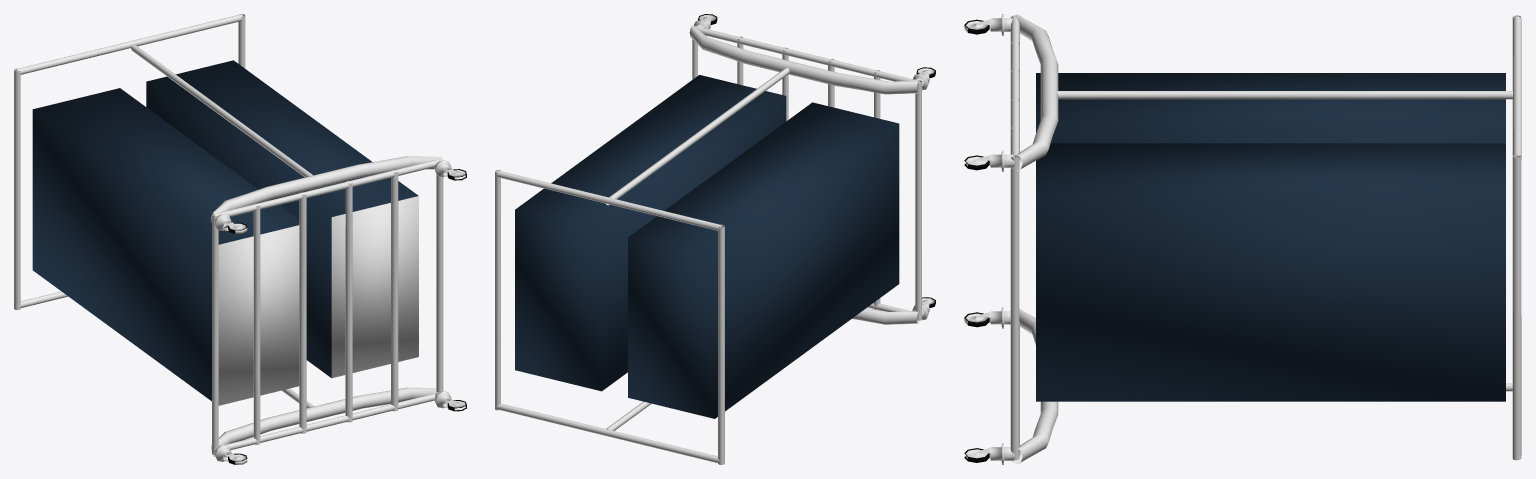
The picture shows the model from 3 angles, left to right: view 1: azimuth 30°, elevation 25°; view 2: azimuth 150°, elevation 25°; view 3: azimuth 270°, elevation 25°; orthographic projection. The views are drawn at different scales.
Visible parts, largest first — view 1: Circle; view 2: Circle; view 3: Circle.
Boxes of the visible parts, bbox=[...] form: Circle: bbox=[14, 14, 466, 464]; Circle: bbox=[495, 14, 935, 464]; Circle: bbox=[964, 14, 1521, 464].
Bounding box in the file's own units: 61.15 × 60.17 × 96.82.
